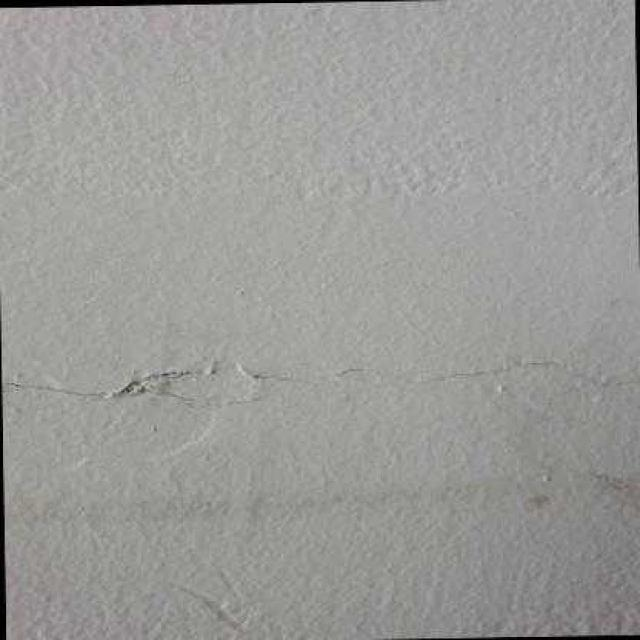D00: (315, 356, 640, 388), (5, 376, 217, 400)
